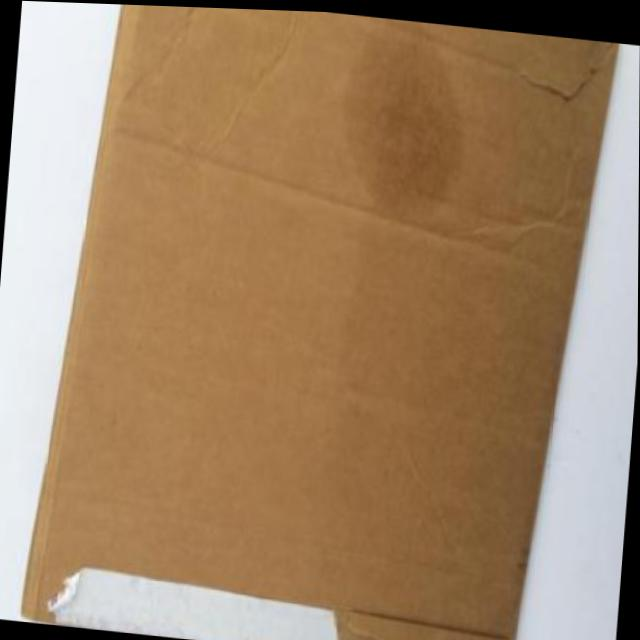box: (14, 1, 624, 640)
